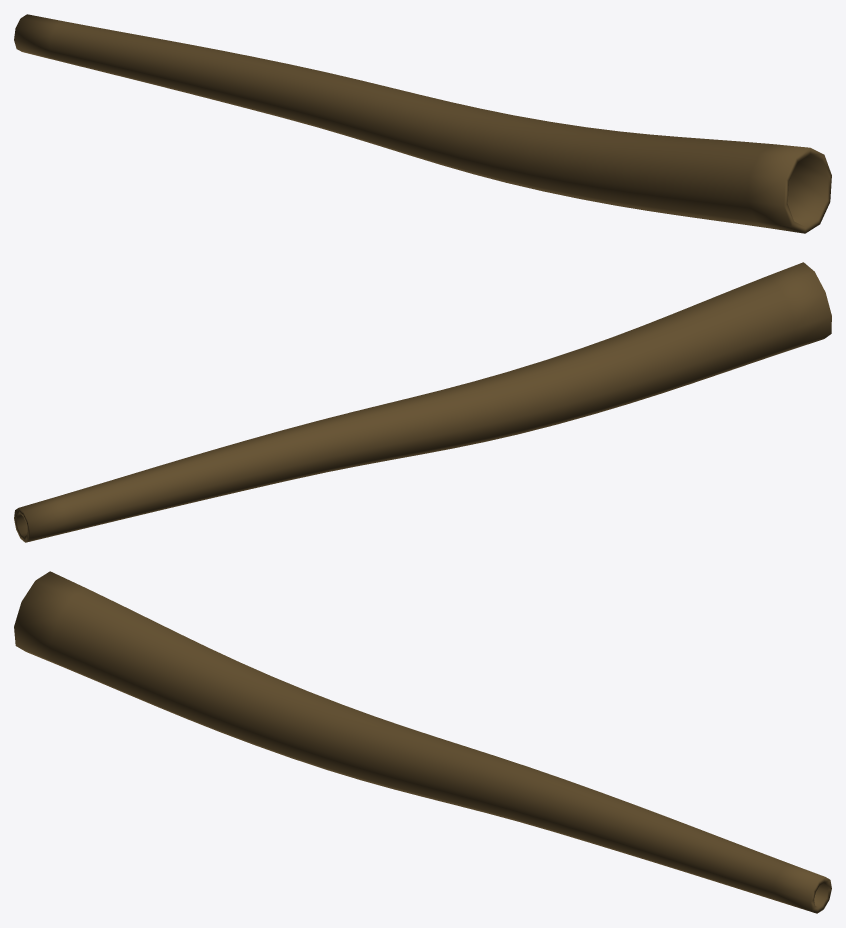
The model's file is forest-fallen-log.glb.
The picture shows the model from 3 angles, top to bottom: view 1: azimuth 90°, elevation 25°; view 2: azimuth 150°, elevation 25°; view 3: azimuth 270°, elevation 25°; orthographic projection. The views are drawn at different scales.
Visible parts, largest first — view 1: forest-fallen-log/0; view 2: forest-fallen-log/0; view 3: forest-fallen-log/0.
Boxes of the visible parts, x1,y1,x2,y2 form: forest-fallen-log/0: (14,14,831,233); forest-fallen-log/0: (14,262,831,542); forest-fallen-log/0: (14,571,831,913).
Bounding box in the file's own units: 6.6 × 1.48 × 9.4.
